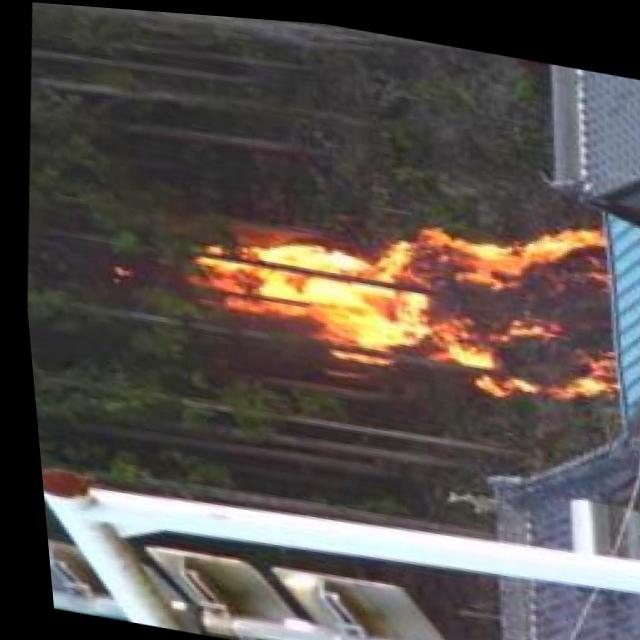Fire: (153, 167, 620, 400)
